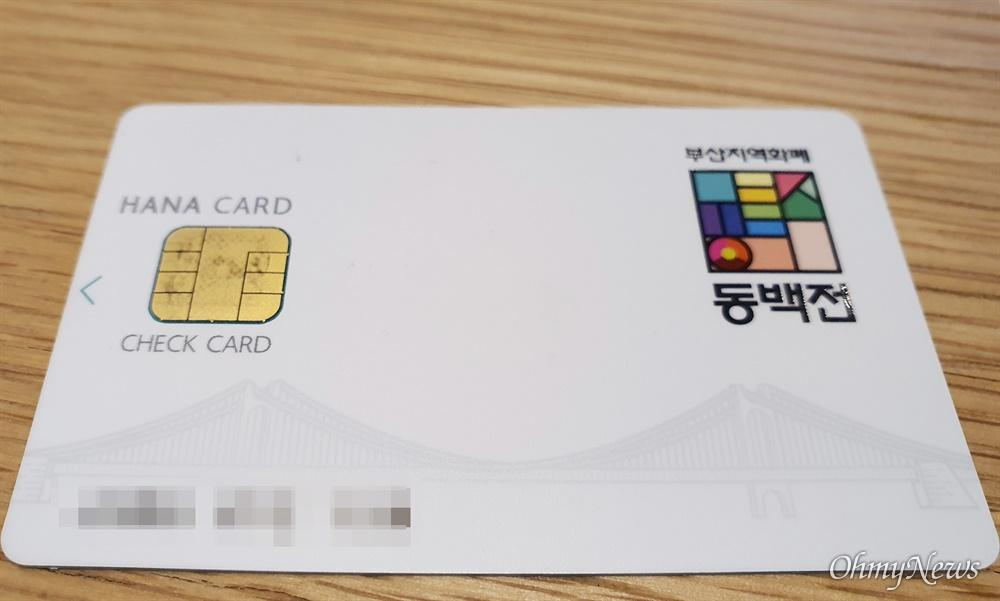Credit_card: (3, 105, 999, 573)
